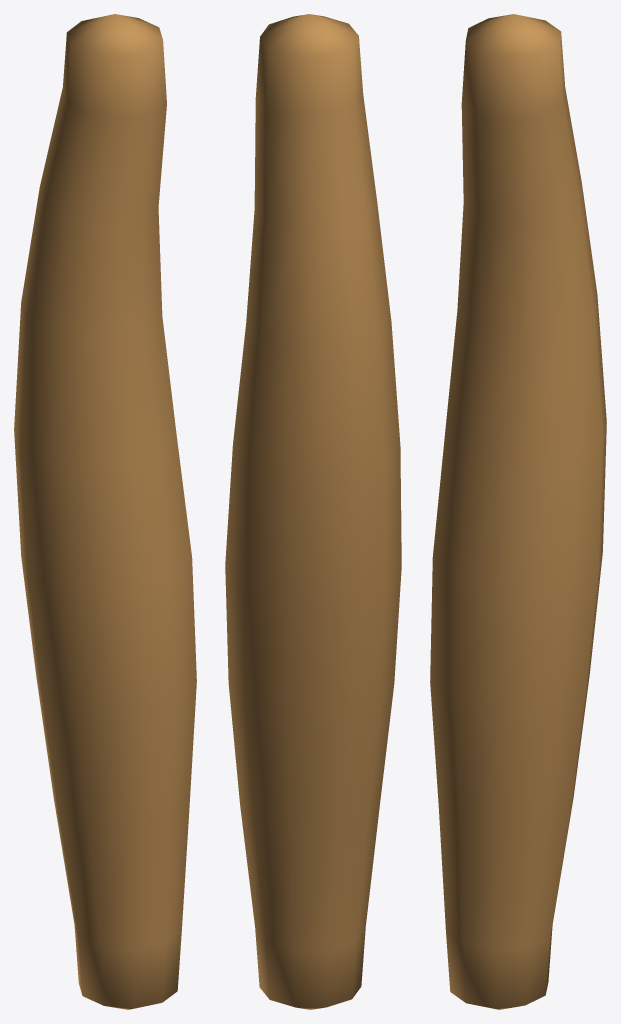
The model's file is femur_T1_right_leg.obj.
The picture shows the model from 3 angles, left to right: view 1: azimuth 30°, elevation 25°; view 2: azimuth 150°, elevation 25°; view 3: azimuth 270°, elevation 25°; orthographic projection.
Size of the model in its own units: 0.0129 by 0.0784 by 0.0126.
